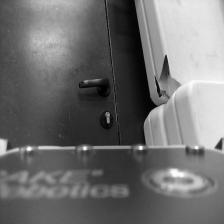Door Handle: (79, 76, 113, 100)
Lock: (99, 110, 116, 129)
